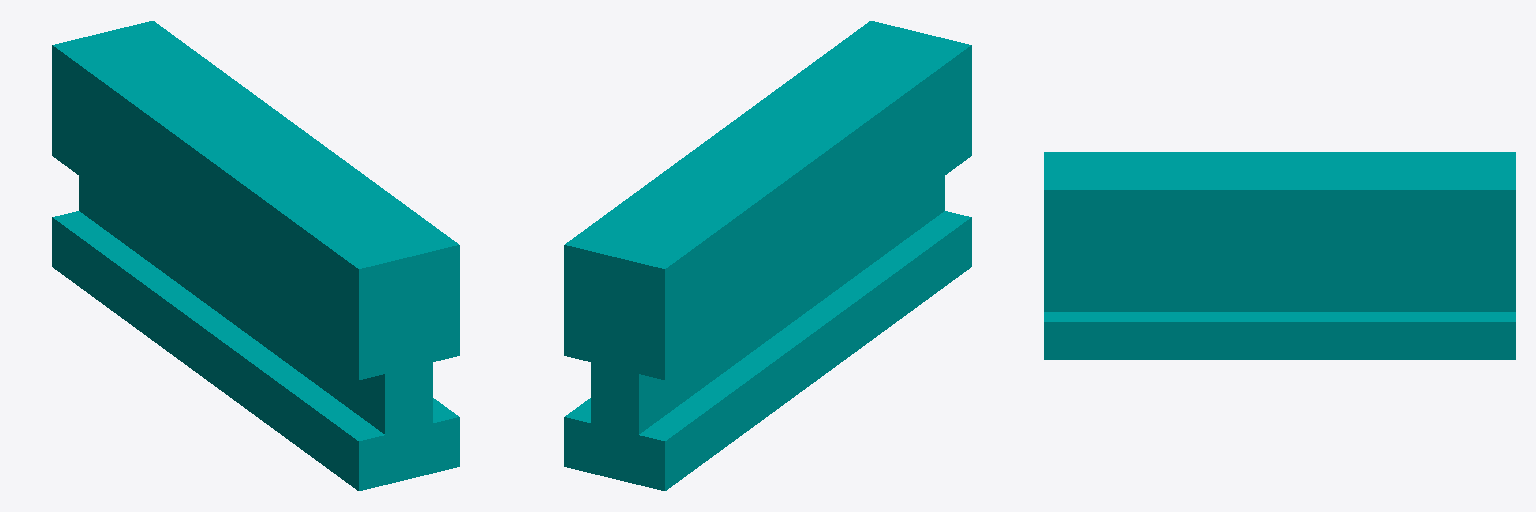
URDF robot description (base):
<?xml version="1.0" encoding="utf-8"?>
<!-- This URDF was automatically created by SolidWorks to URDF Exporter! Originally created by [author] ([email redacted]) 
     Commit Version: 1.6.0-1-g15f4949  Build Version: 1.6.7594.29634
     For more information, please see http://wiki.ros.org/sw_urdf_exporter -->
<robot name="base">
 	<link name="base_link">
		<visual>
		    <origin xyz="0 0 0" rpy="0 0 0"/>
			<geometry>
				<box size="0.019 0.1 0.009"/>
			</geometry>
			<material name="Cyan2">
	       		<color rgba="0 0.7 0.7 1.0"/>
	     	</material>
		</visual>
  
  		<collision>
		    <origin xyz="0 0 0" rpy="0 0 0"/>
			<geometry>
				<box size="0.019 0.1 0.009"/>
			</geometry>			
		</collision>
  
	</link>

 	<link name="medium_link">
		<visual>
		    <origin xyz="0 0.0 0.01" rpy="0 0 0"/>
			<geometry>
				<box size="0.009 0.1 0.011"/>
			</geometry>
			<material name="Cyan2">
	       		<color rgba="0 0.7 0.7 1.0"/>
	     	</material>
		</visual>
        <collision>
		    <origin xyz="0 0.0 0.01" rpy="0 0 0"/>
			<geometry>
				<box size="0.009 0.1 0.011"/>
			</geometry>
		</collision>
	</link>

 	<link name="upper_link">
		<visual>
		    <origin xyz="0 0.0 0.0255" rpy="0 0 0"/>
			<geometry>
				<box size="0.019 0.1 0.02"/>
			</geometry>
			<material name="Cyan2">
	       		<color rgba="0 0.7 0.7 1.0"/>
	     	</material>
		</visual>
        <collision>
		    <origin xyz="0 0.0 0.0255" rpy="0 0 0"/>
			<geometry>
				<box size="0.019 0.1 0.02"/>
			</geometry>
		</collision>
	</link>

    <joint
    name="joint_base_link_medium_link"
    type="fixed">
    <parent
      link="base_link" />
    <child
      link="medium_link" />
    </joint>

    <joint
    name="joint_medium_link_upper_link"
    type="fixed">
    <parent
      link="medium_link" />
    <child
      link="upper_link" />
    </joint>

</robot>

--- What the picture shows (computed from the rendered views, not written in the file) ---
Views: 3 orthographic renders of the robot side by side, from view 1: azimuth 30°, elevation 25°; view 2: azimuth 150°, elevation 25°; view 3: azimuth 270°, elevation 25°.
Robot: base — 3 links, 2 joints (2 fixed); root link base_link; default pose: every joint at zero.
Links seen in each view (by area): view 1: upper_link, base_link, medium_link; view 2: upper_link, base_link, medium_link; view 3: upper_link, base_link, medium_link.
Link boxes in pixels (box(x1,y1,x2,y2)): upper_link: box(52, 21, 459, 379); base_link: box(52, 211, 459, 490); medium_link: box(79, 176, 432, 434); upper_link: box(564, 21, 971, 379); base_link: box(564, 211, 971, 490); medium_link: box(591, 176, 944, 434); upper_link: box(1044, 152, 1515, 274); base_link: box(1044, 312, 1515, 359); medium_link: box(1044, 275, 1515, 311).
Bounding box of the posed robot: 0.019 × 0.1 × 0.04 m (x, y, z).
Geometry: primitives only (box / cylinder / sphere), no mesh files.